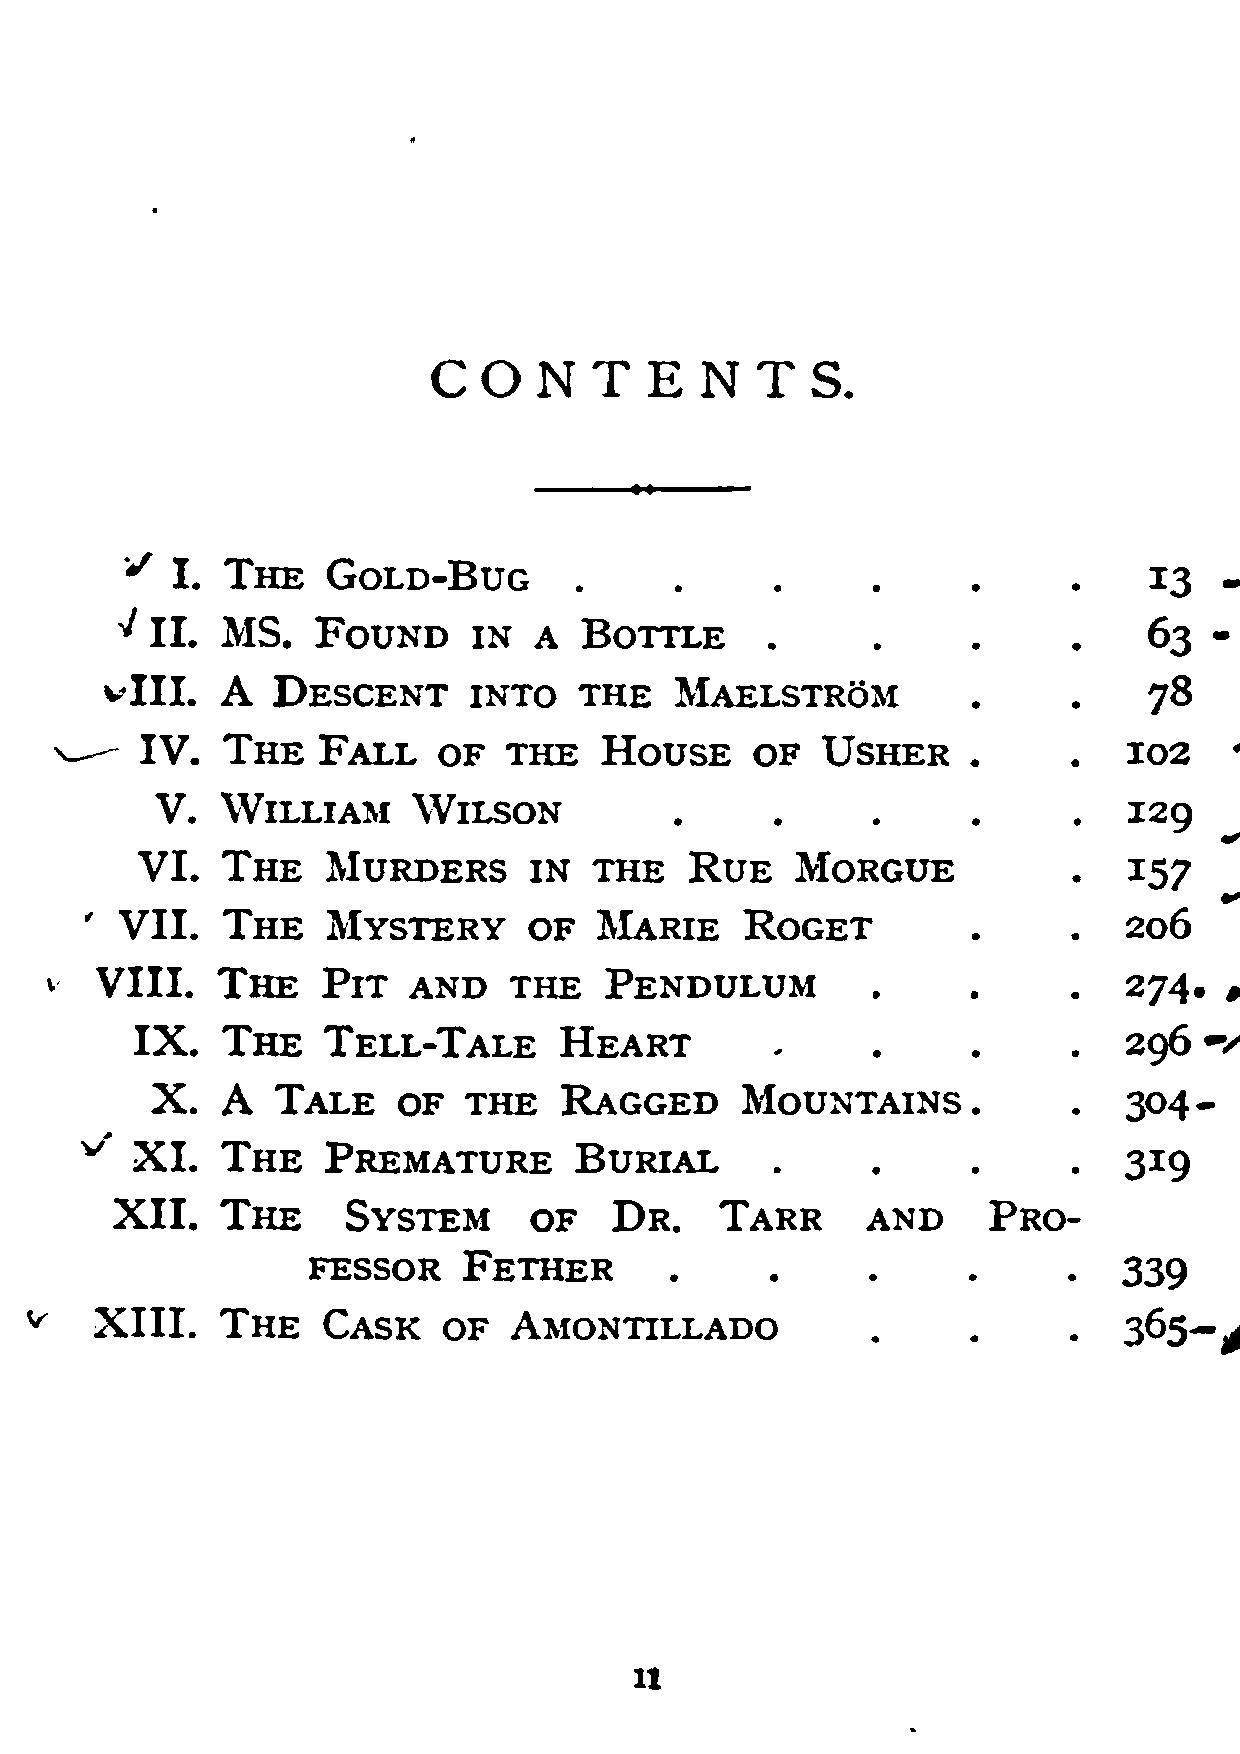TOC_chapter: (106, 1190, 1080, 1286), (146, 1074, 964, 1119), (130, 843, 957, 887), (127, 667, 902, 714), (140, 727, 947, 772), (115, 900, 878, 946), (97, 958, 821, 1005), (90, 1298, 777, 1345), (142, 607, 734, 658), (132, 1019, 690, 1063), (127, 1135, 717, 1177), (152, 786, 565, 829), (165, 549, 533, 595)
TOC_pagenumber: (1122, 790, 1196, 837), (1122, 1142, 1190, 1189), (1122, 1083, 1190, 1127), (1123, 1021, 1189, 1066), (1117, 1252, 1188, 1292), (1119, 1308, 1188, 1349), (1123, 964, 1186, 1007), (1123, 855, 1190, 895), (1123, 907, 1194, 942), (1143, 558, 1192, 603), (1123, 738, 1194, 768), (1146, 611, 1190, 658), (1146, 670, 1190, 717)
chapter: (423, 349, 854, 403)
content_pagenumber: (627, 1657, 670, 1696)
